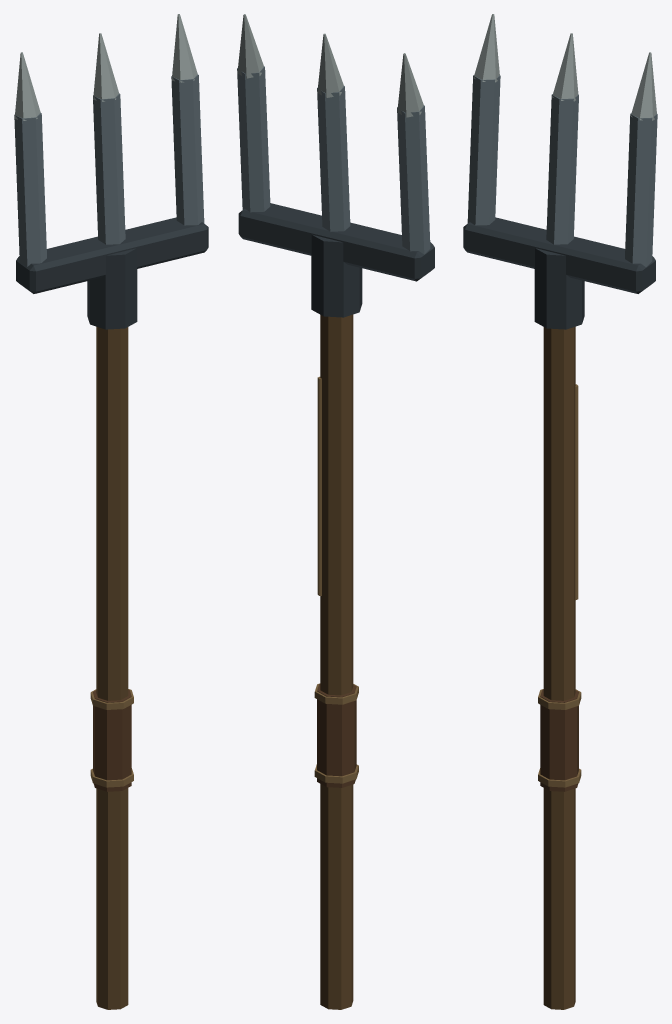
The model's file is Pitchfork.glb.
3 renders of one model, left to right at view 1: azimuth 30°, elevation 25°; view 2: azimuth 150°, elevation 25°; view 3: azimuth 330°, elevation 25°, orthographic.
Parts seen in each view (by area): view 1: Sculpture; view 2: Sculpture; view 3: Sculpture.
Boxes of the visible parts, x1,y1,x2,y2 form: Sculpture: [14, 14, 208, 1009]; Sculpture: [237, 14, 434, 1009]; Sculpture: [463, 14, 657, 1009].
Size of the model in its own units: 0.3613 by 1.85 by 0.09.
